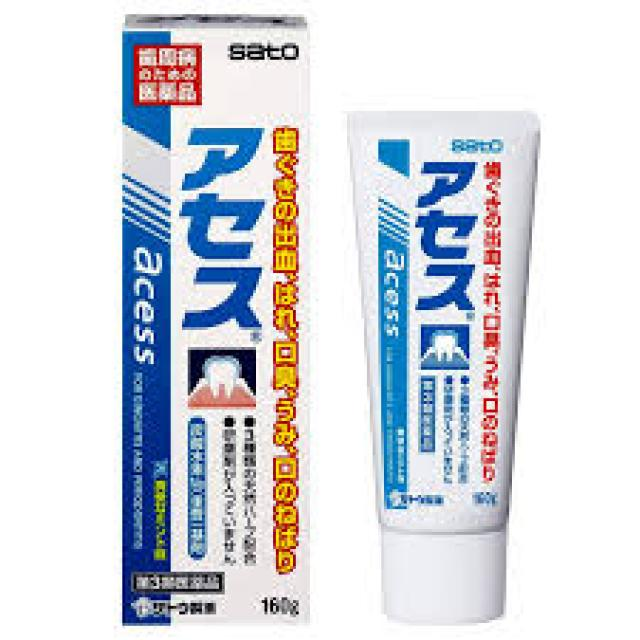toothpaste: (337, 95, 546, 622)
